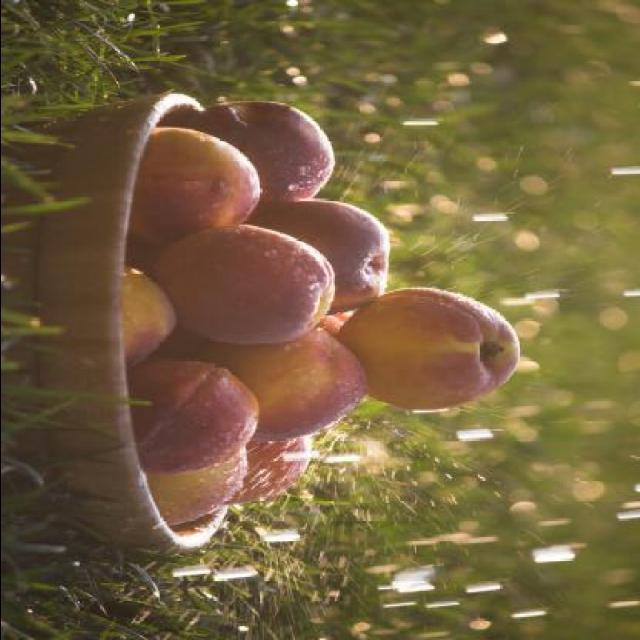Peach: (124, 98, 521, 524)
